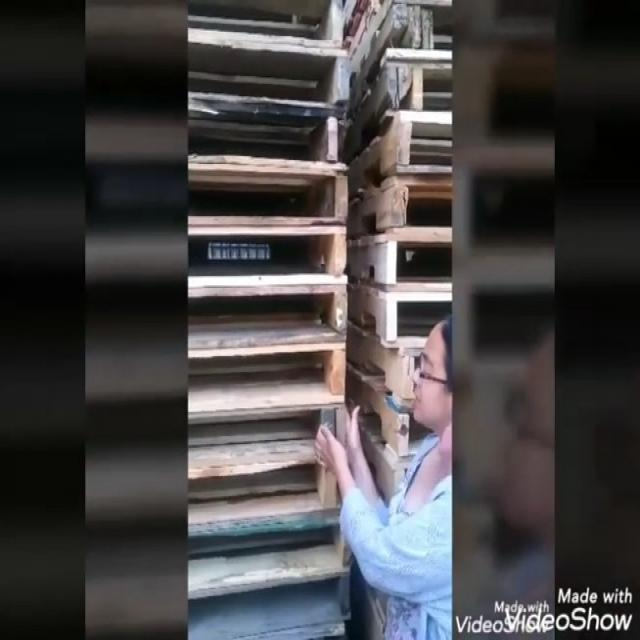Palette: (183, 0, 357, 640), (354, 0, 453, 462)
